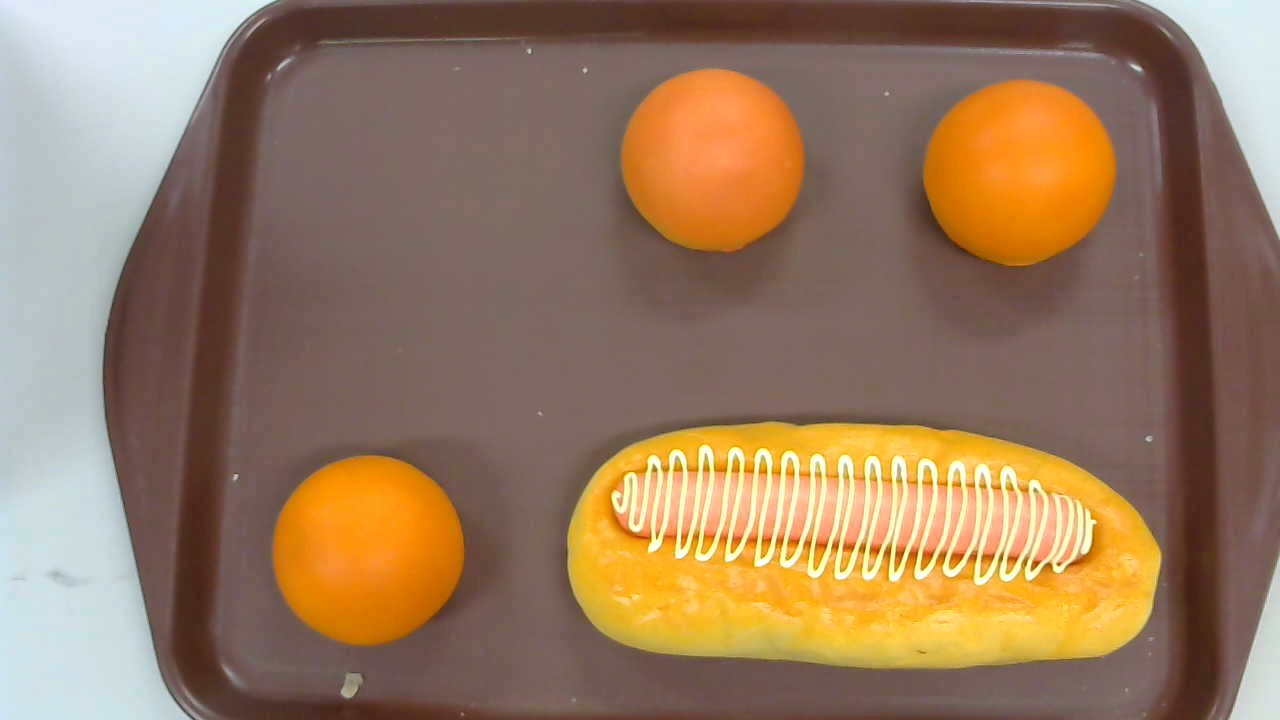bun: (272, 453, 464, 647), (922, 77, 1116, 268), (620, 67, 805, 253)
hot dog: (566, 419, 1162, 670)
